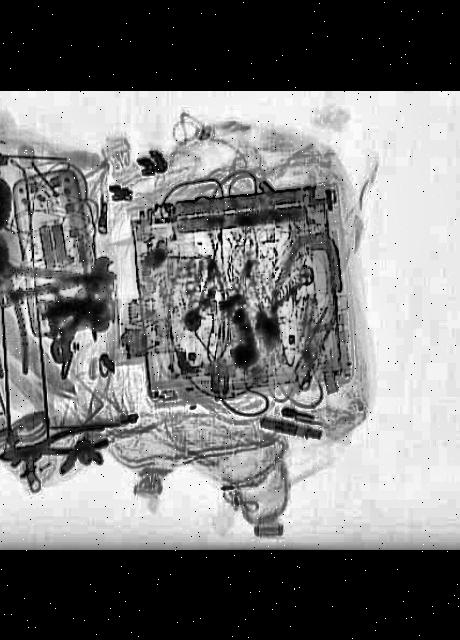Pliers: (0, 421, 114, 471), (0, 235, 34, 378)
